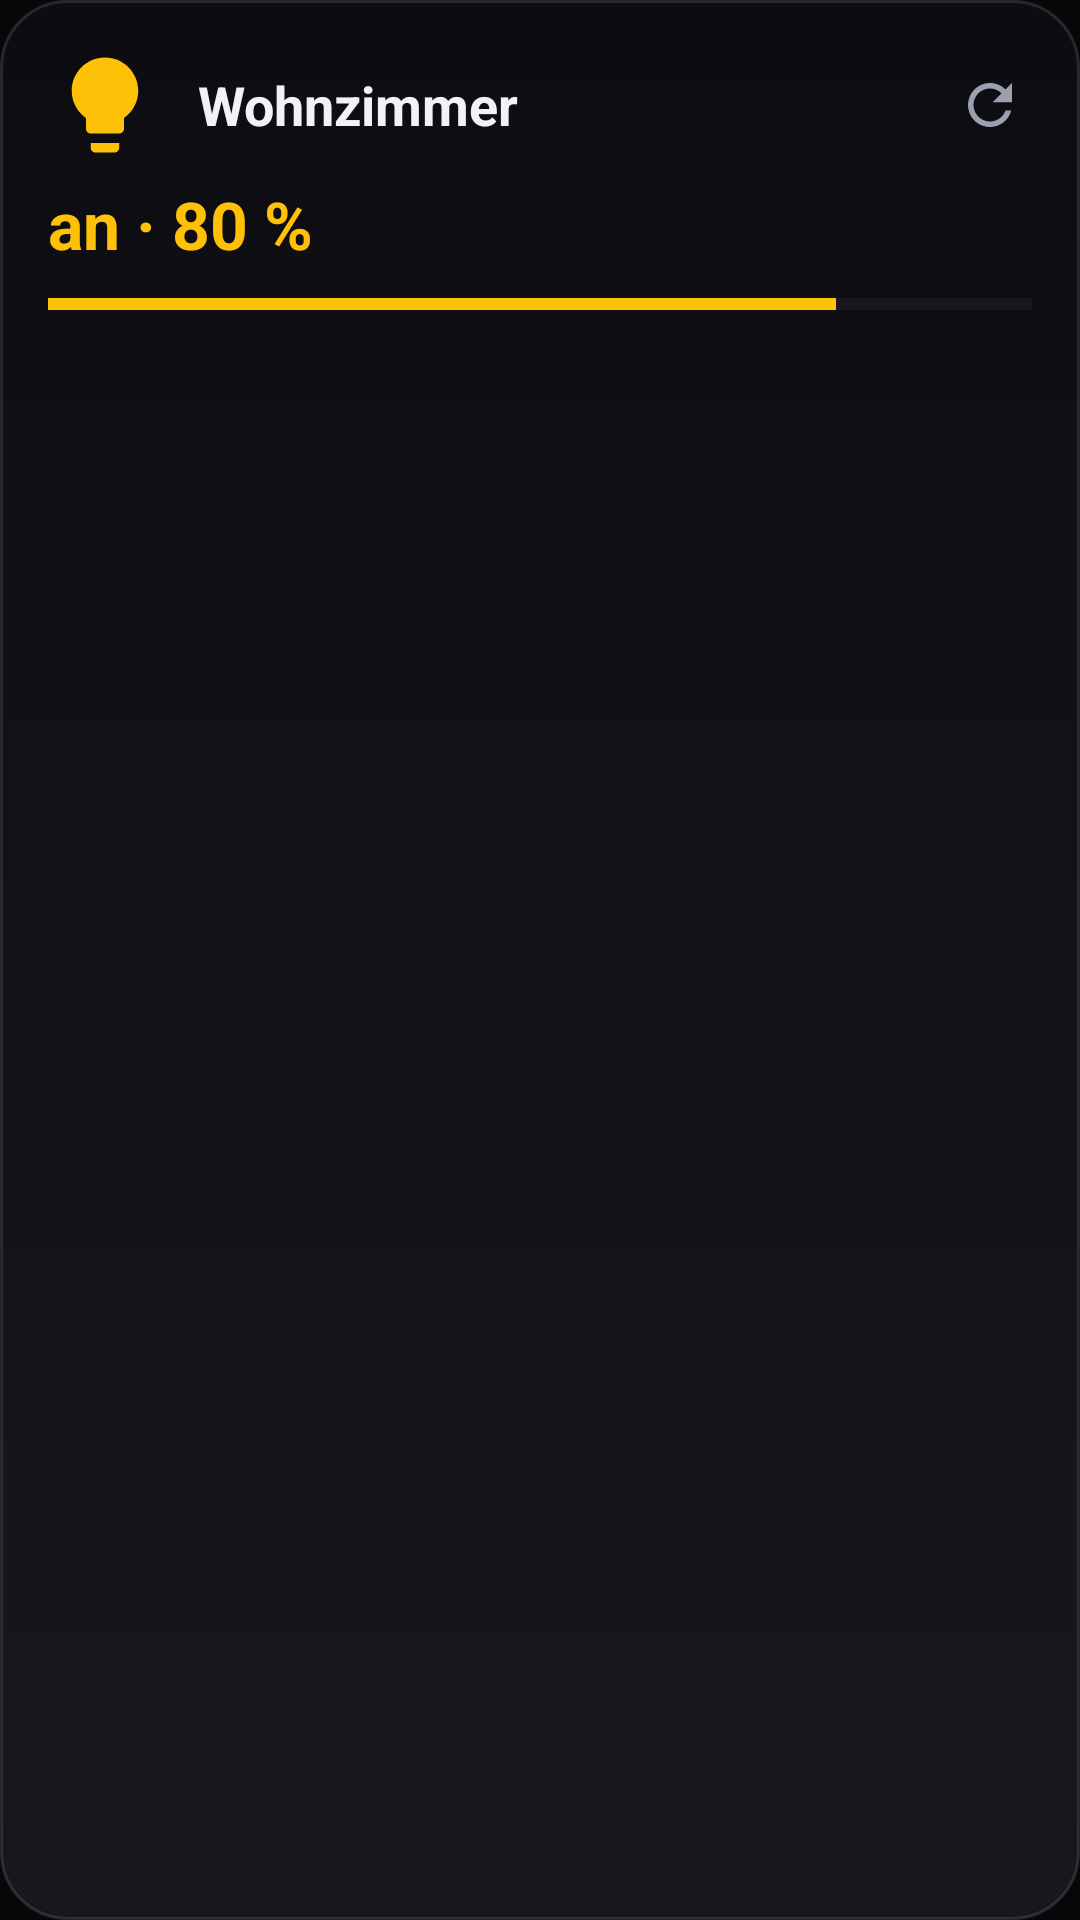

Screen size 1080w x 1920h. Icon name, then its box in pixels as (x1, y1, x2, y2):
Aktualisieren: (968, 83, 1012, 127)
